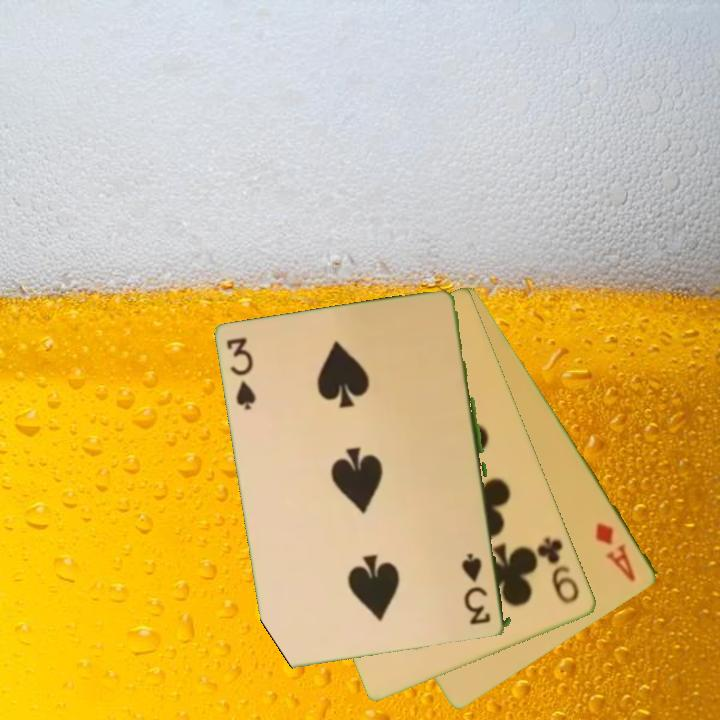3s: (223, 334, 260, 413), (462, 550, 495, 628)
9c: (534, 534, 583, 607)
Ad: (592, 519, 639, 586)
